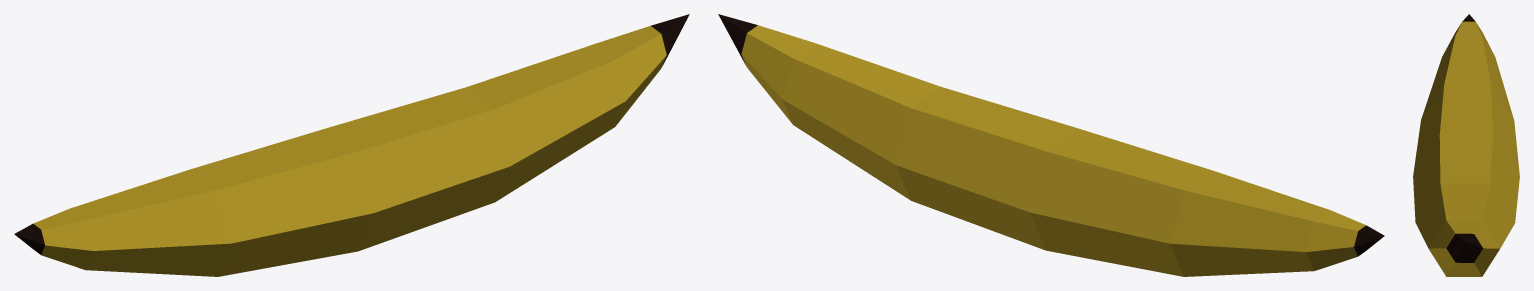
File: Banana_FBX.fbx
3 views of the same model, side by side, from view 1: azimuth 30°, elevation 25°; view 2: azimuth 150°, elevation 25°; view 3: azimuth 270°, elevation 25° (orthographic). The views are drawn at different scales.
Visible parts, largest first — view 1: Cylinder019; view 2: Cylinder019; view 3: Cylinder019.
Boxes of the visible parts, box(x1,y1,x2,y2) form: Cylinder019: box(14, 14, 689, 276); Cylinder019: box(718, 14, 1384, 276); Cylinder019: box(1413, 14, 1519, 276).
Size of the model in its own units: 21.48 by 4.31 by 3.51.
